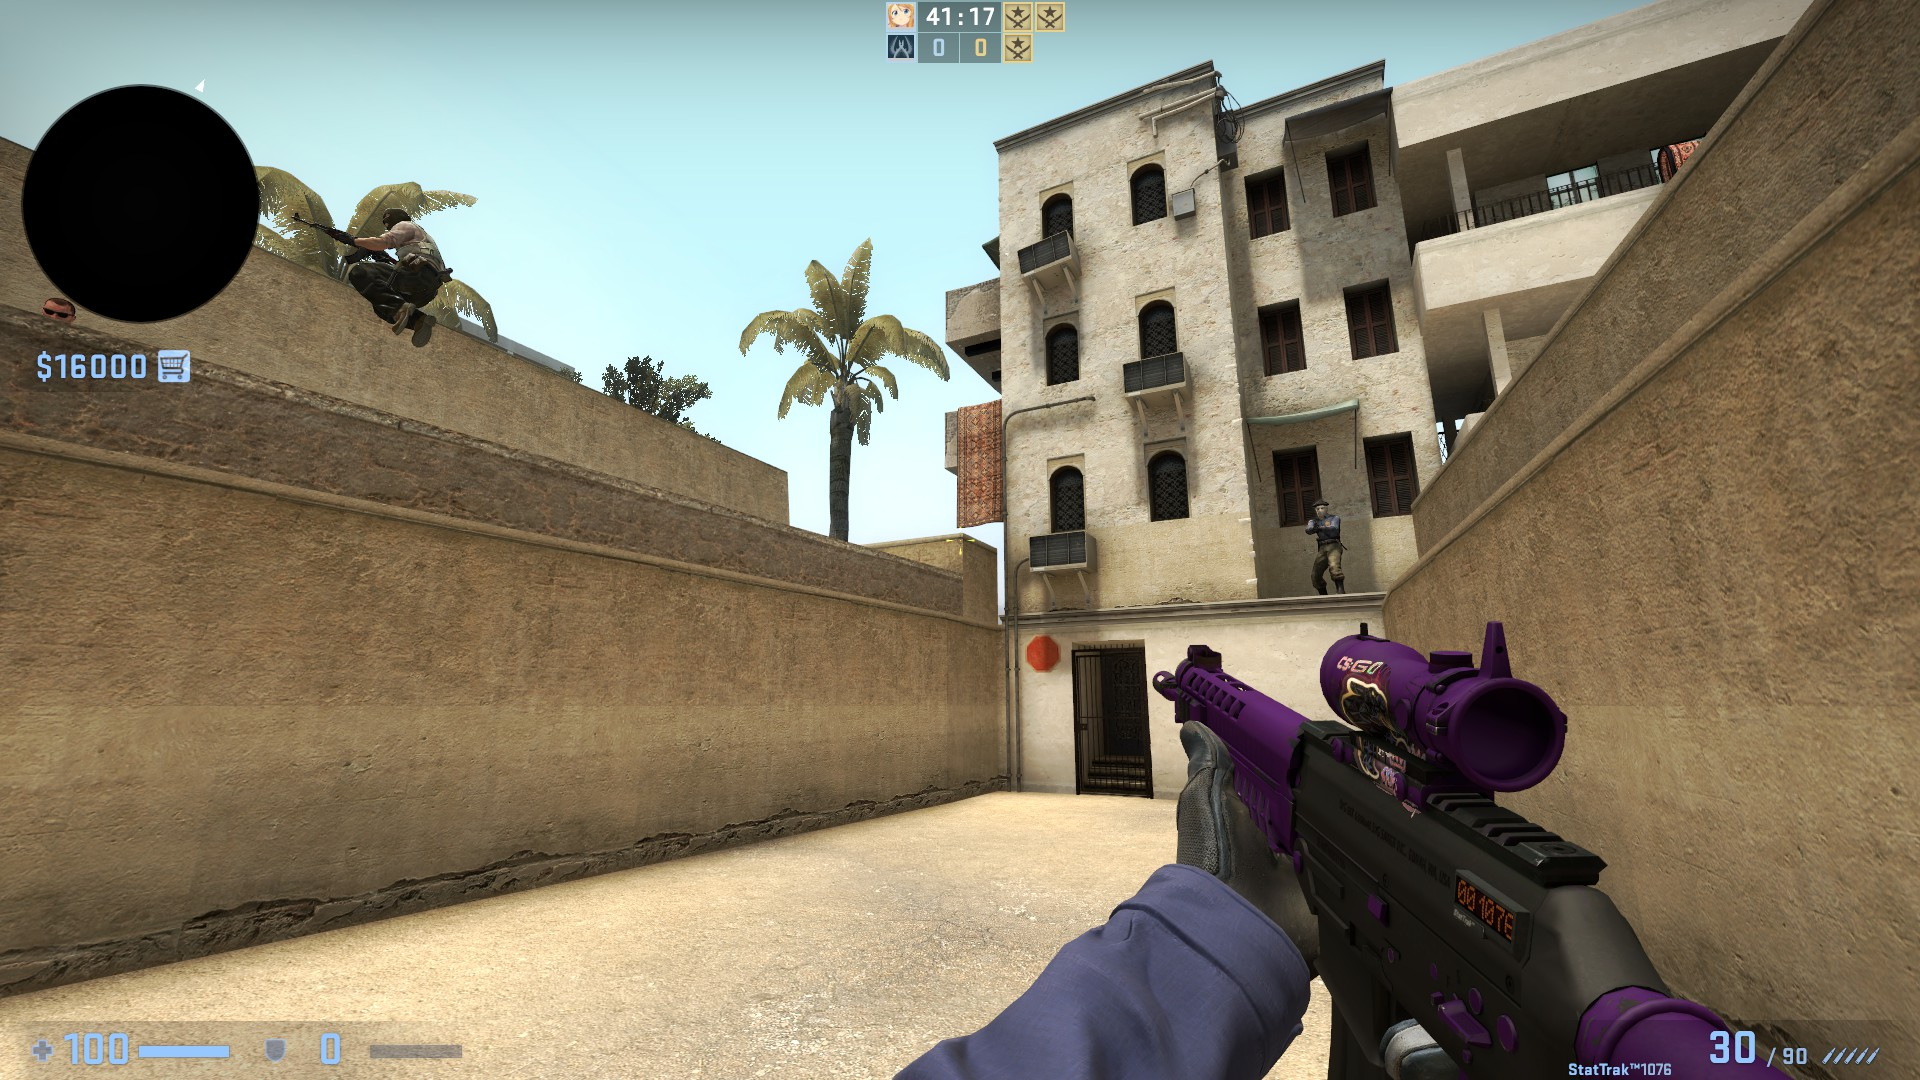head: (37, 292, 77, 329), (375, 203, 414, 232), (1309, 496, 1335, 525)
